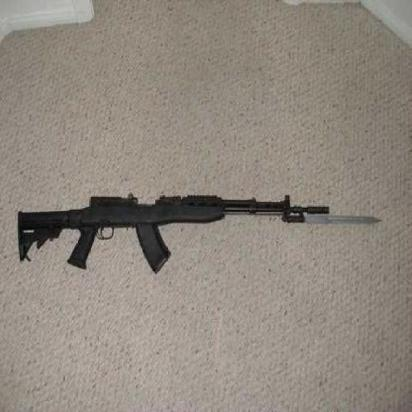Gun: (17, 196, 327, 270)
